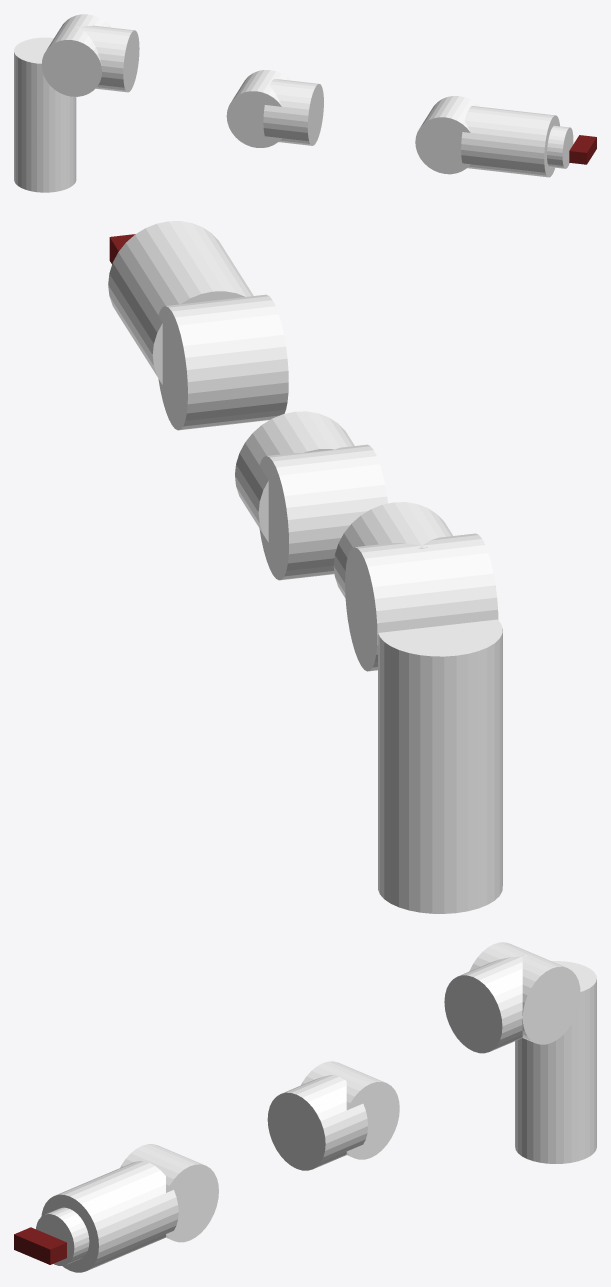
File: baxter_arm.right.dae
3 views of the same model, one above another, from view 1: azimuth 30°, elevation 25°; view 2: azimuth 150°, elevation 25°; view 3: azimuth 270°, elevation 25° (orthographic). The views are drawn at different scales.
Visible parts, largest first — view 1: right_upper_shoulder, right_wrist, right_lower_shoulder, right_upper_forearm, right_lower_forearm, right_lower_elbow, right_upper_elbow, right_hand, right_gripper; view 2: right_upper_shoulder, right_lower_forearm, right_lower_shoulder, right_lower_elbow, right_wrist, right_upper_forearm, right_upper_elbow; view 3: right_upper_shoulder, right_wrist, right_upper_forearm, right_upper_elbow, right_lower_shoulder, right_lower_forearm, right_lower_elbow, right_hand, right_gripper.
Boxes of the visible parts, x1=… form: right_upper_shoulder: x1=14, y1=37, x2=76, y2=192; right_wrist: x1=461, y1=106, x2=559, y2=177; right_lower_shoulder: x1=41, y1=14, x2=110, y2=96; right_upper_forearm: x1=263, y1=79, x2=323, y2=145; right_lower_forearm: x1=415, y1=96, x2=479, y2=174; right_lower_elbow: x1=226, y1=70, x2=291, y2=147; right_upper_elbow: x1=77, y1=25, x2=139, y2=92; right_hand: x1=547, y1=125, x2=573, y2=168; right_gripper: x1=569, y1=135, x2=596, y2=164; right_upper_shoulder: x1=378, y1=619, x2=502, y2=913; right_lower_forearm: x1=158, y1=294, x2=288, y2=430; right_lower_shoulder: x1=345, y1=533, x2=498, y2=671; right_lower_elbow: x1=259, y1=444, x2=387, y2=580; right_wrist: x1=108, y1=221, x2=253, y2=384; right_upper_forearm: x1=235, y1=411, x2=354, y2=542; right_upper_elbow: x1=333, y1=502, x2=452, y2=598; right_upper_shoulder: x1=515, y1=961, x2=596, y2=1163; right_wrist: x1=41, y1=1161, x2=178, y2=1272; right_upper_forearm: x1=267, y1=1075, x2=367, y2=1170; right_upper_elbow: x1=444, y1=955, x2=526, y2=1053; right_lower_shoulder: x1=469, y1=942, x2=580, y2=1044; right_lower_forearm: x1=120, y1=1144, x2=218, y2=1242; right_lower_elbow: x1=301, y1=1061, x2=399, y2=1159; right_hand: x1=36, y1=1207, x2=89, y2=1265; right_gripper: x1=14, y1=1227, x2=66, y2=1264.
Bounding box in the file's own units: 0.8535 × 0.8535 × 0.3303.
